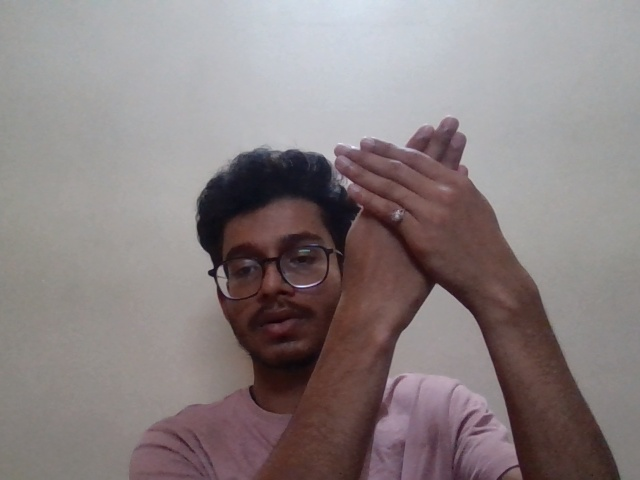what: (277, 107, 569, 367)
